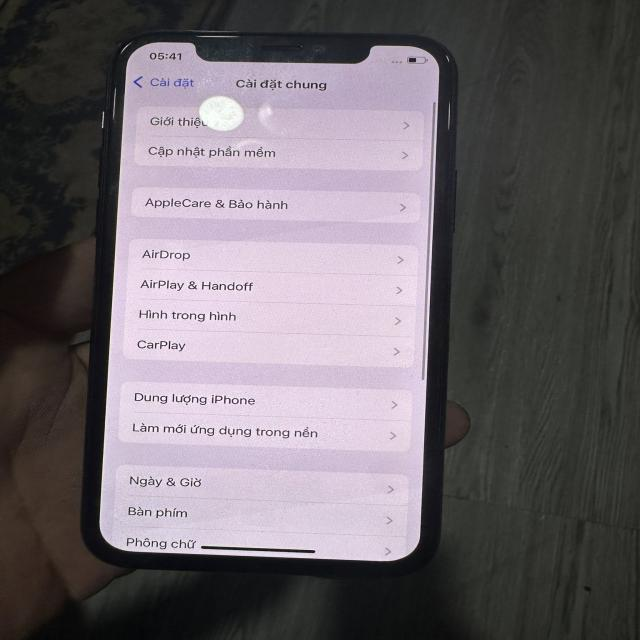gen_x_xs: (82, 26, 462, 576)
screen_defect: (196, 89, 246, 133)
